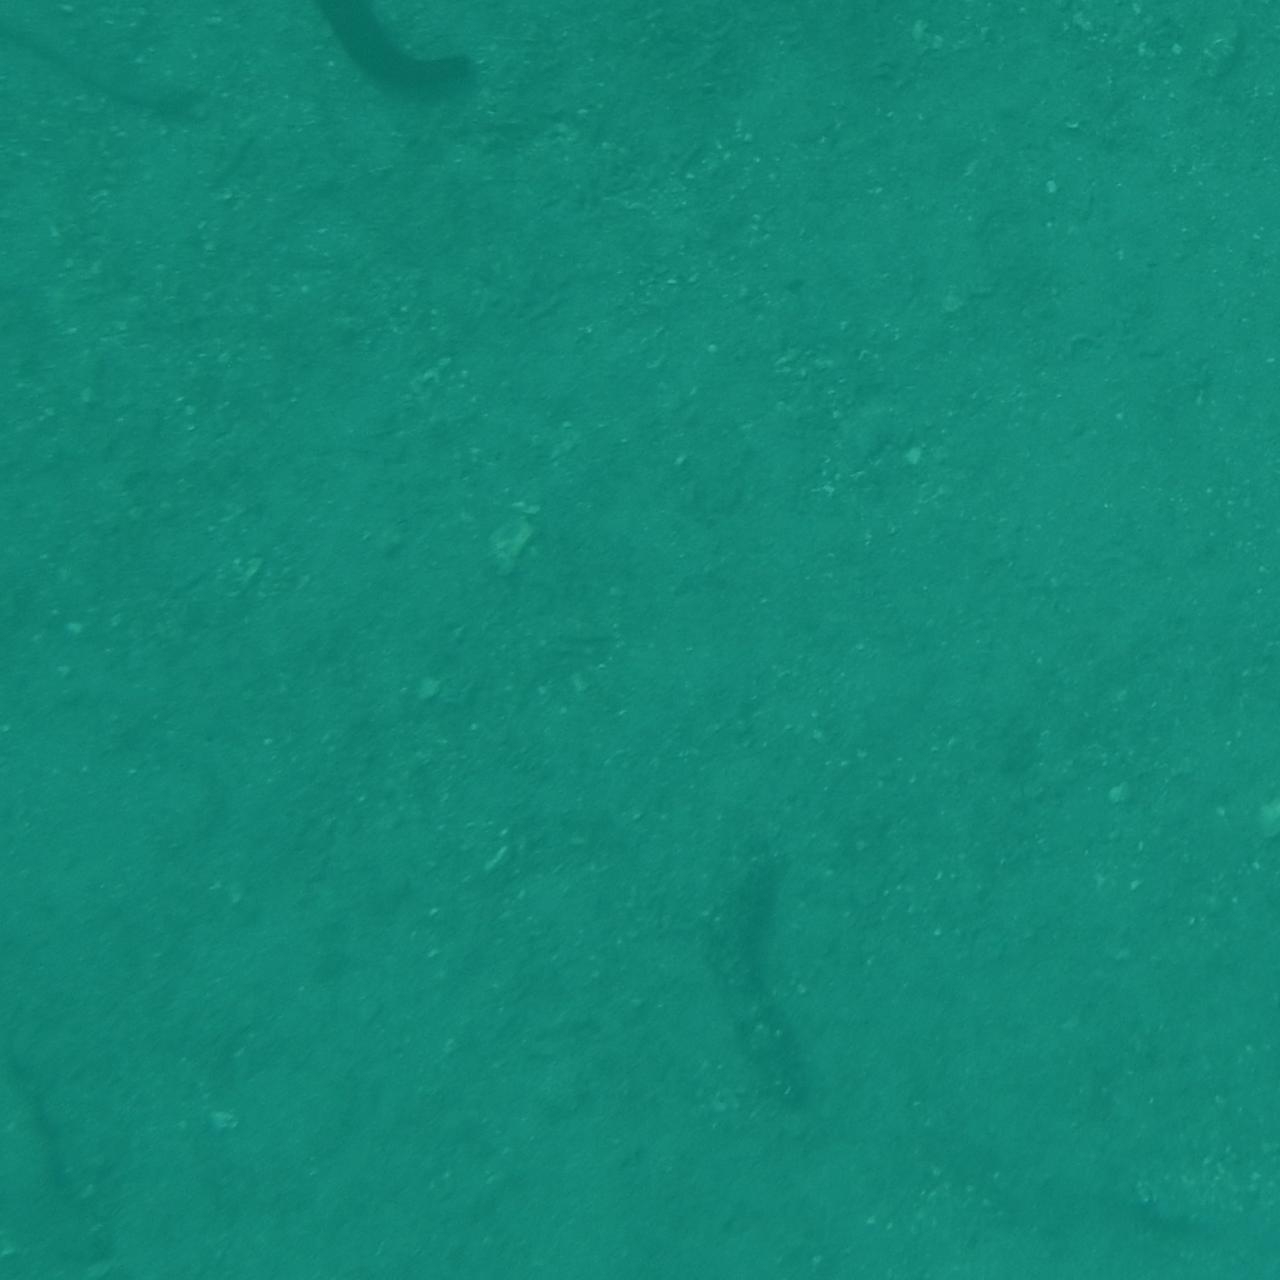Holothuria tubulosa: (688, 819, 858, 1143), (0, 1046, 168, 1280), (216, 0, 498, 122), (0, 0, 229, 142), (0, 722, 105, 958), (0, 600, 95, 860), (12, 1164, 200, 1280), (0, 1026, 191, 1138), (1164, 799, 1280, 981), (1162, 969, 1280, 1107), (191, 1169, 333, 1280), (591, 0, 859, 48), (1133, 1196, 1280, 1280)
